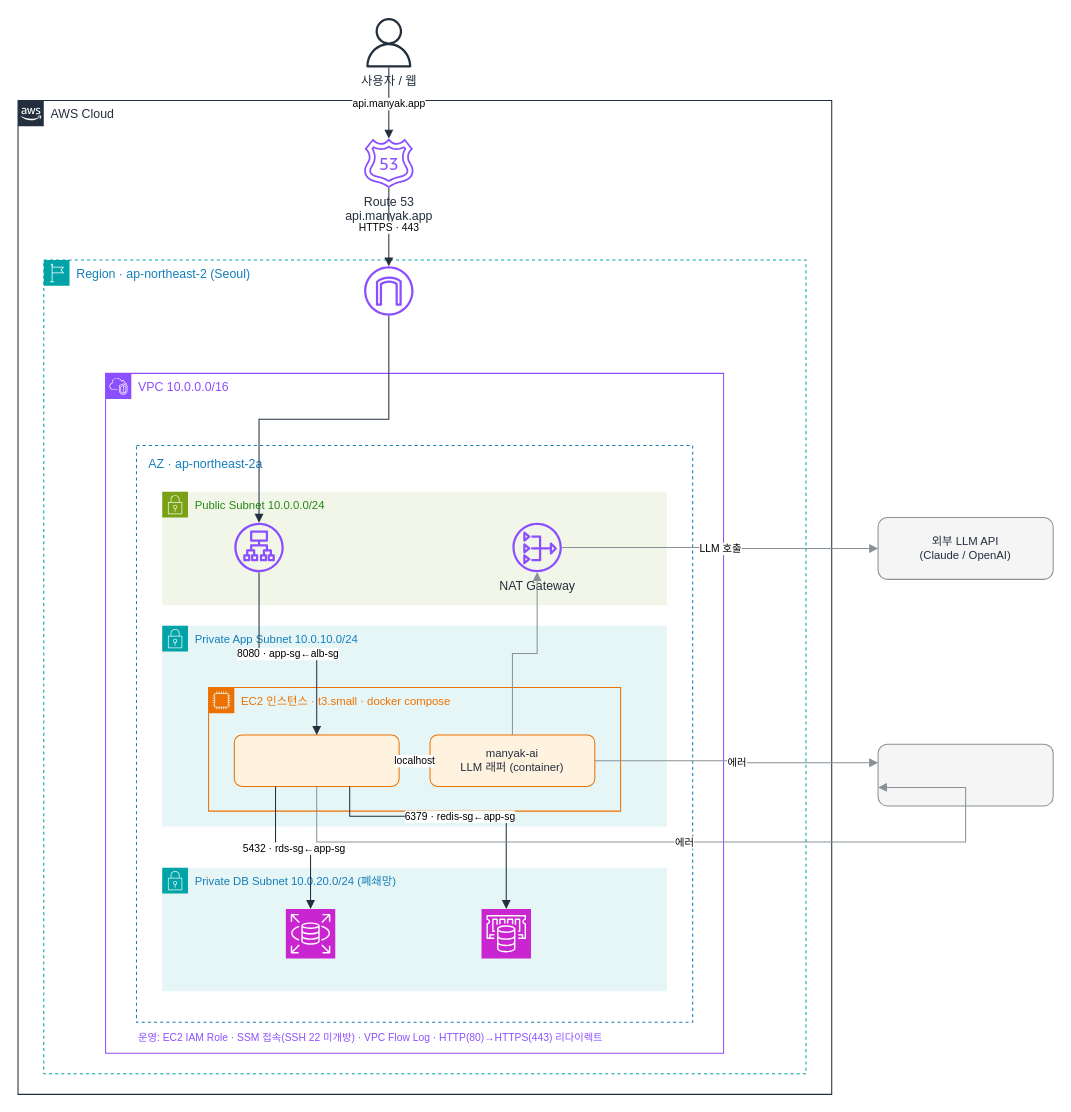
This 1071x1112 diagram has some shape labels left out. The shapes that lost their labels are listed below. From the top down, each one's centre as x and y in pixels, then its label:
At (x=388, y=290): "Internet Gateway".
At (x=258, y=547): "ALB :443 HTTPS · ACM".
At (x=316, y=760): "manyak-server :8080 (container)".
At (x=965, y=774): "Sentry (에러 추적 SaaS)".
At (x=310, y=933): "RDS PostgreSQL :5432".
At (x=505, y=933): "ElastiCache Redis :6379".
